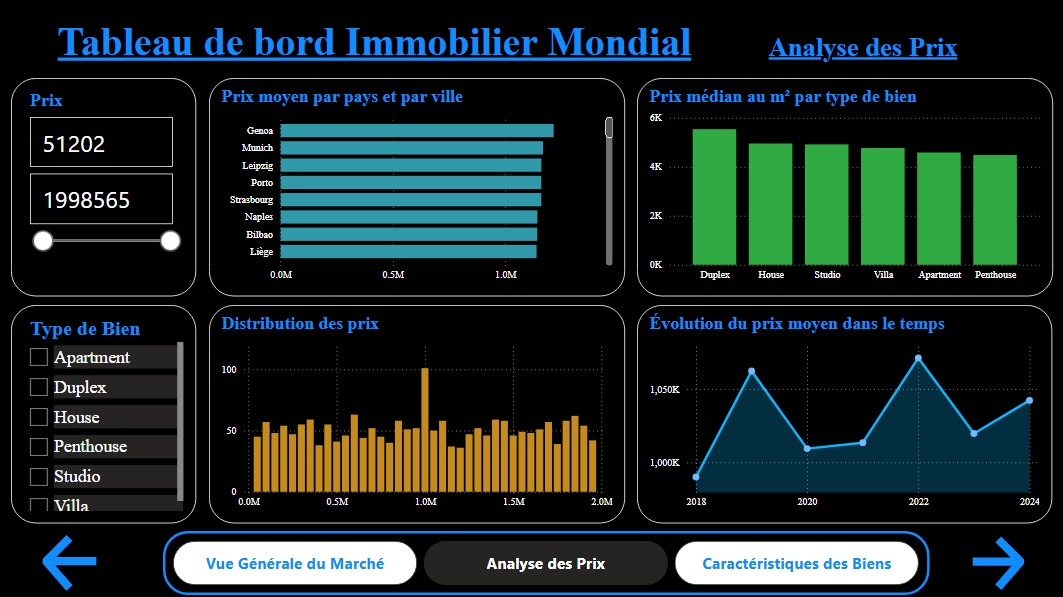

What the dashboard file says about the page in this screenshot:
{"tool":"powerbi","page":{"name":"Analyse des Prix","canvas":[1280,720],"ordinal":1},"visuals":[{"type":"textbox","box":[0,6.6,868,90.4],"z":0},{"type":"pageNavigator","box":[197.5,639.3,923.5,77.1],"z":1000},{"type":"barChart","title":"Prix moyen par pays et par ville","fields":{"Category":["DIM_LOCATION.COUNTRY","DIM_LOCATION.CITY"],"Y":["Avg(FACT_LISTINGS.PRICE)"]},"box":[252.8,94.2,501,262.9],"z":2000},{"type":"actionButton","box":[1134.2,639.3,133.6,77.1],"z":3000},{"type":"actionButton","box":[26.5,639.3,134.8,77.1],"z":4000},{"type":"textbox","box":[911.8,22.3,356.1,74.9],"z":5000},{"type":"columnChart","title":"Prix médian au m² par type de bien","fields":{"Category":["DIM_PROPERTY.PROPERTY_TYPE"],"Y":["Median(FACT_LISTINGS.PRICE_PER_M2)"]},"box":[767.6,94.2,501,262.9],"z":6000},{"type":"clusteredColumnChart","title":"Distribution des prix","fields":{"Y":["Count(FACT_LISTINGS.LISTING_ID)"],"Category":["FACT_LISTINGS.PRICE (compartiments)"]},"box":[252.8,366.7,501,262.9],"z":7000},{"type":"lineChart","title":"Évolution du prix moyen dans le temps","fields":{"Y":["Avg(FACT_LISTINGS.PRICE)"],"Category":["DIM_DATE.YEAR","DIM_DATE.QUARTER"]},"box":[767.6,366.7,499.6,262.9],"z":8000},{"type":"slicer","fields":{"Values":["FACT_LISTINGS.PRICE"]},"box":[14.7,94.2,223,262.9],"z":9000},{"type":"slicer","fields":{"Values":["DIM_PROPERTY.PROPERTY_TYPE"]},"box":[14.7,366.7,223,262.9],"z":10000}]}

Visuals, with their boxes in screenshot pixels (x1, y1, x2, y2), scaled from the page's 1280x720 canvas onto the 1063x597 screenshot:
textbox: BBox(0, 5, 721, 80)
pageNavigator: BBox(164, 530, 931, 594)
"Prix moyen par pays et par ville" barChart: BBox(210, 78, 626, 296)
actionButton: BBox(942, 530, 1053, 594)
actionButton: BBox(22, 530, 134, 594)
textbox: BBox(757, 18, 1053, 81)
"Prix médian au m² par type de bien" columnChart: BBox(637, 78, 1054, 296)
"Distribution des prix" clusteredColumnChart: BBox(210, 304, 626, 522)
"Évolution du prix moyen dans le temps" lineChart: BBox(637, 304, 1052, 522)
slicer - FACT_LISTINGS.PRICE: BBox(12, 78, 197, 296)
slicer - DIM_PROPERTY.PROPERTY_TYPE: BBox(12, 304, 197, 522)
